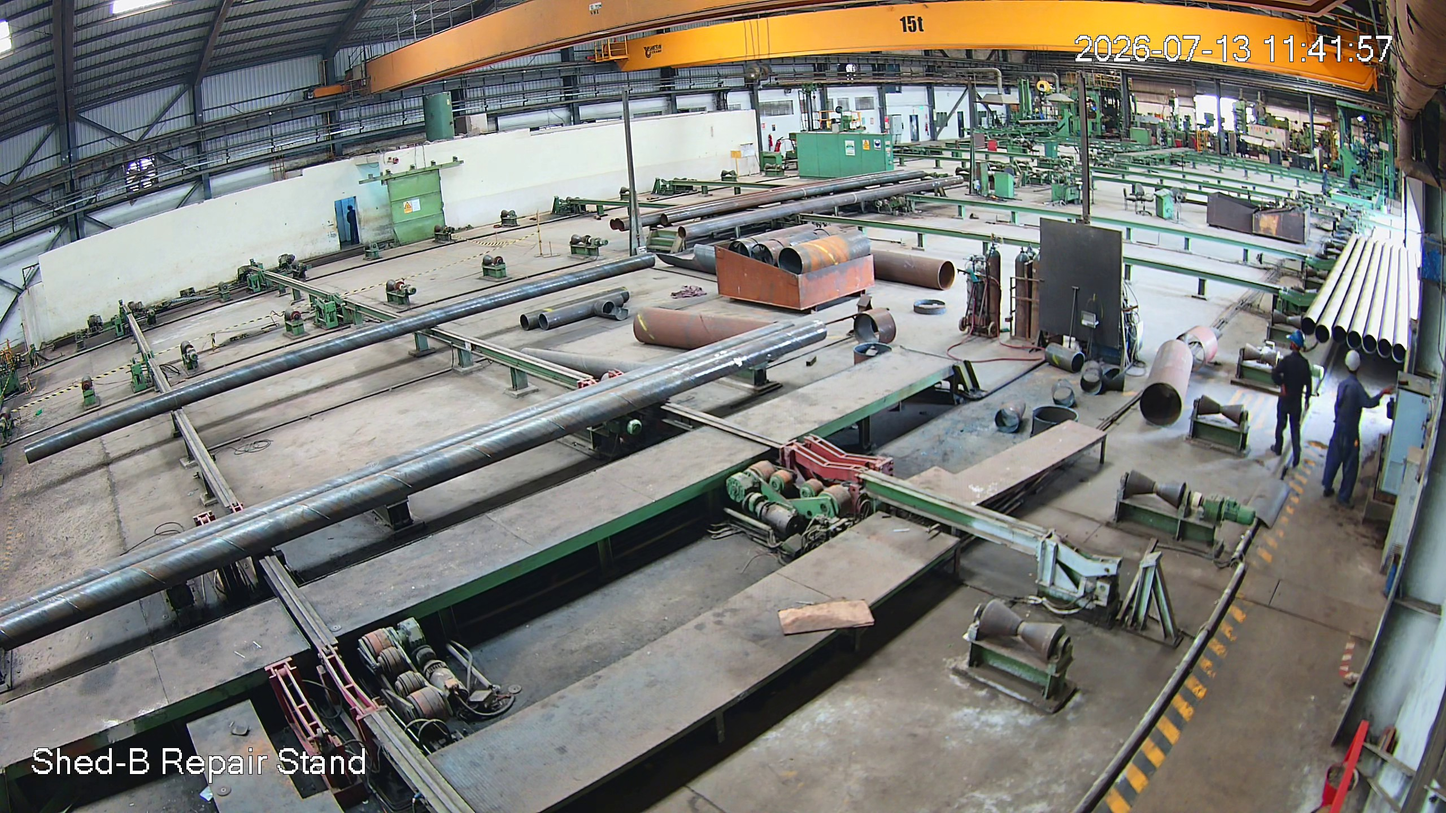Helmet: (1340, 350, 1365, 384), (1285, 329, 1309, 354)
Person: (1321, 352, 1371, 499), (1272, 331, 1313, 466)
